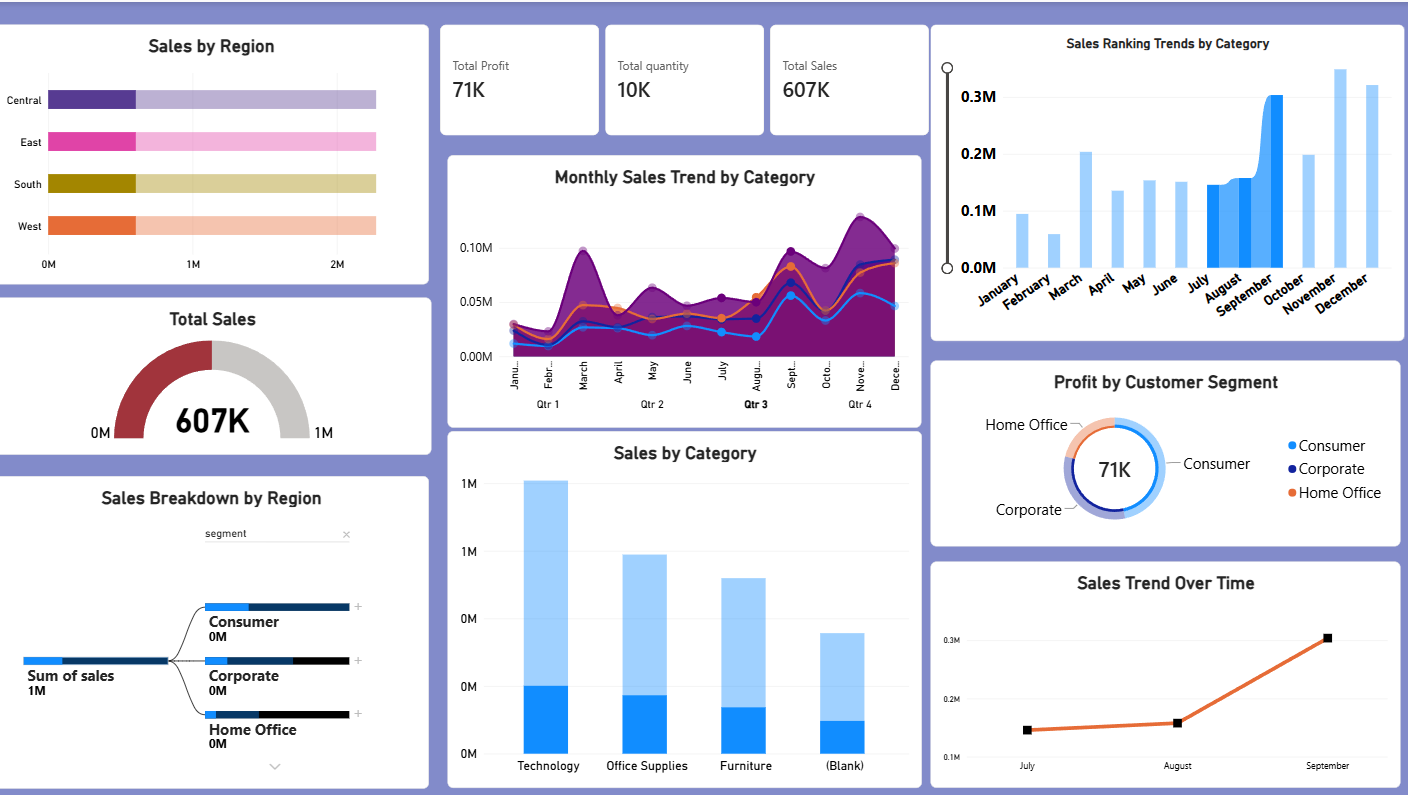

Layout of this report page (visuals, bound fields, positions):
{"tool":"powerbi","page":{"name":"Superstore Sales Performance Dashboard","canvas":[1920,1080],"ordinal":0},"visuals":[{"type":"cardVisual","fields":{"Data":["Sum(orders.profit)","Sum(orders.quantity)","Sum(orders.sales)"]},"box":[603.8,31.2,663.3,150.2],"z":0},{"type":"clusteredColumnChart","title":"Sales by Category","fields":{"Y":["Sum(orders.sales)"],"Category":["products.category"]},"box":[615.3,580.6,641.3,482.4],"z":1000},{"type":"lineChart","title":"Sales Trend Over Time","fields":{"Category":["orders.order_date.Variation.Date Hierarchy.Month"],"Y":["Sum(orders.sales)"]},"box":[1268.1,756.8,635.5,306.2],"z":2000},{"type":"donutChart","title":"Profit by Customer Segment","fields":{"Category":["customers.segment"],"Y":["Sum(orders.profit)"]},"box":[1268.1,485.3,635.5,251.3],"z":3000},{"type":"clusteredBarChart","title":"Sales by Region","fields":{"Category":["locations.region"],"Y":["Sum(orders.sales)"]},"box":[0,31.2,589.6,351.5],"z":4000},{"type":"textbox","box":[629,794,536,184],"z":6000},{"type":"textbox","box":[1755,737,164,343],"z":7000},{"type":"gauge","title":"Total Sales","fields":{"Y":["Sum(orders.sales)"]},"box":[0,399.7,592.4,212.6],"z":8000},{"type":"ribbonChart","title":"Sales Ranking Trends by Category","fields":{"Y":["Sum(orders.sales)"],"Category":["orders.order_date.Variation.Date Hierarchy.Month"]},"box":[1267.1,31.2,640.6,428],"z":9000},{"type":"textbox","box":[0,0,589,274],"z":10000},{"type":"decompositionTreeVisual","title":"Sales Breakdown by Region","fields":{"Analyze":["Sum(orders.sales)"],"ExplainBy":["products.category","locations.region","customers.segment"]},"box":[0,640.6,589.6,422.4],"z":10001},{"type":"areaChart","title":"Monthly Sales Trend by Category","fields":{"Y":["Sum(orders.sales)"],"Category":["orders.order_date.Variation.Date Hierarchy.Quarter","orders.order_date.Variation.Date Hierarchy.Month"],"Series":["products.category"]},"box":[615.1,206.9,640.6,368.5],"z":10002}]}

Visuals, with their boxes in screenshot pixels (x1, y1, x2, y2), scaled from the page's 1920x1080 canvas onto the 1408x795 screenshot:
cardVisual - Sum(orders.profit) x Sum(orders.quantity): [443, 23, 929, 134]
"Sales by Category" clusteredColumnChart: [451, 427, 922, 782]
"Sales Trend Over Time" lineChart: [930, 557, 1396, 782]
"Profit by Customer Segment" donutChart: [930, 357, 1396, 542]
"Sales by Region" clusteredBarChart: [0, 23, 432, 282]
textbox: [461, 584, 854, 720]
textbox: [1287, 543, 1407, 794]
"Total Sales" gauge: [0, 294, 434, 451]
"Sales Ranking Trends by Category" ribbonChart: [929, 23, 1399, 338]
textbox: [0, 0, 432, 202]
"Sales Breakdown by Region" decompositionTreeVisual: [0, 472, 432, 782]
"Monthly Sales Trend by Category" areaChart: [451, 152, 921, 424]
